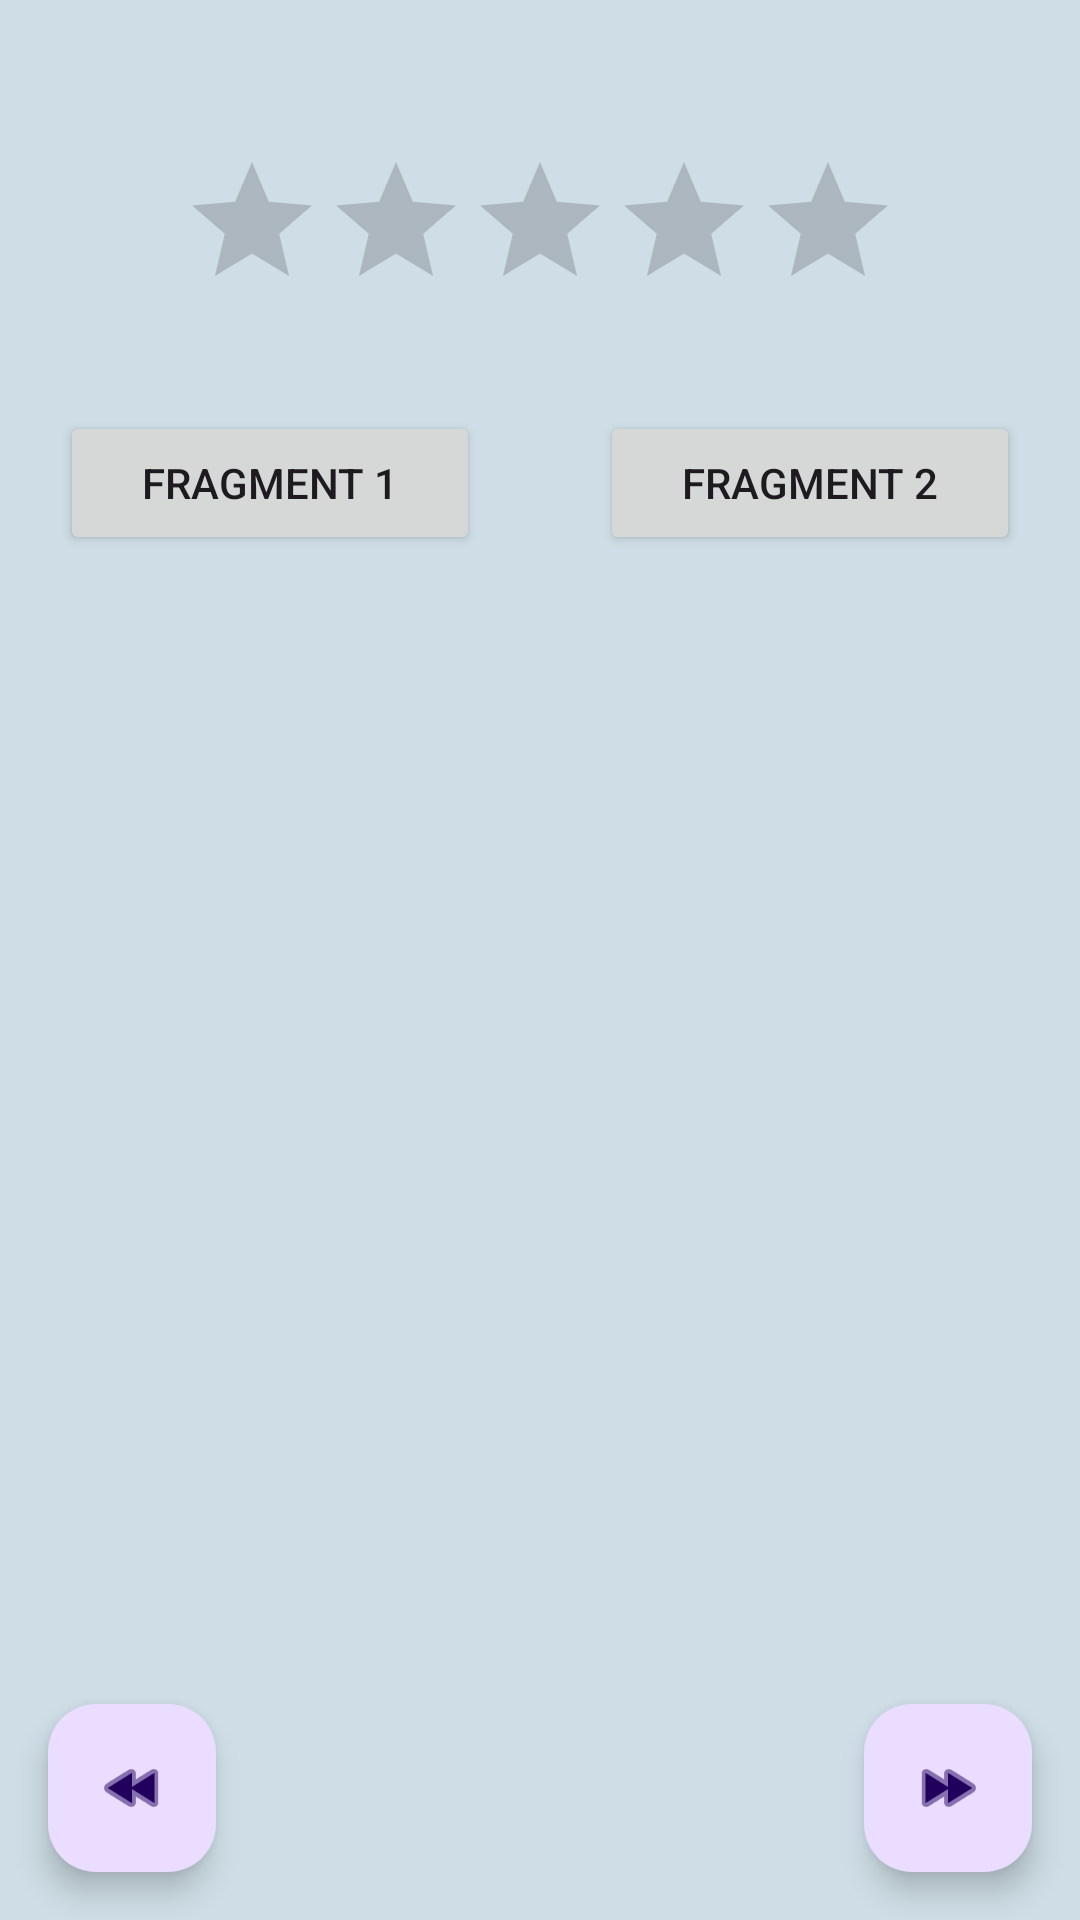

Icons on this 1080*1920 Android screen, each with its box as [x1, y1, x2, y2]:
rew: [48, 1704, 216, 1872]
